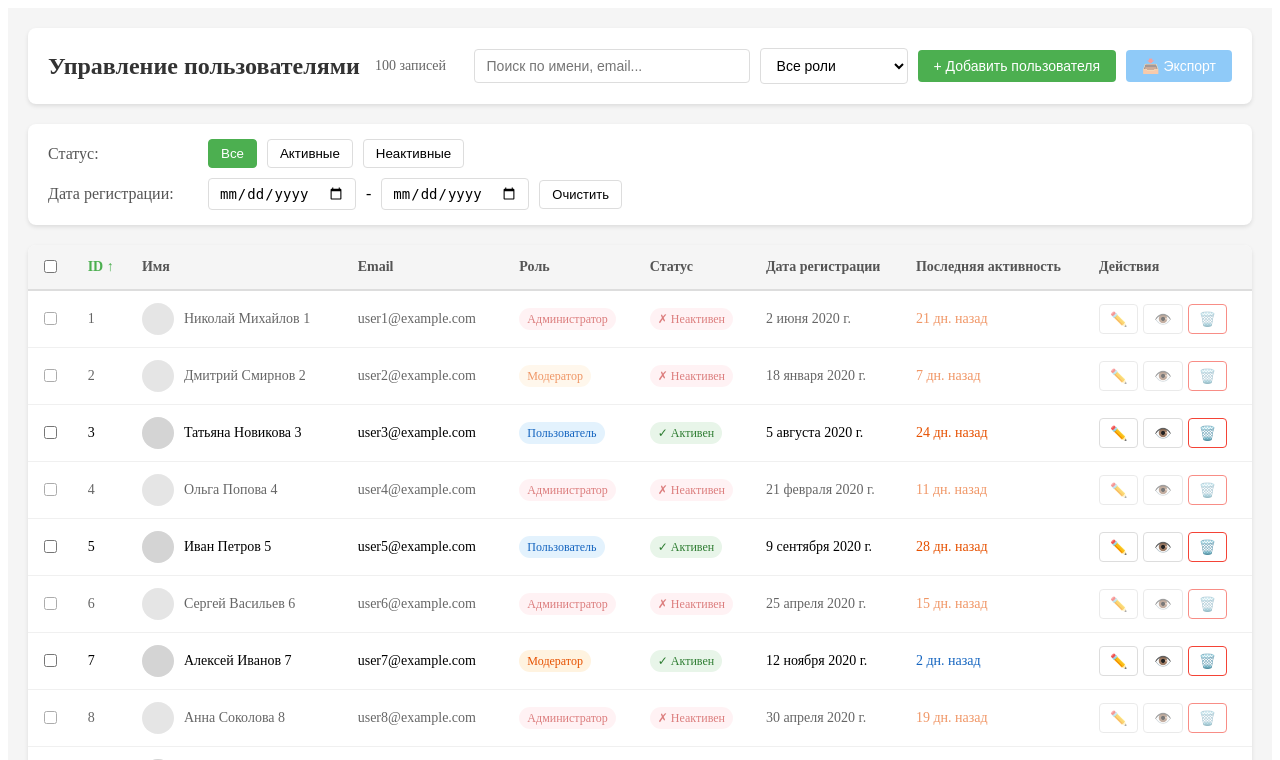
Scenario: UserTable › Редактирование пользователя › должен показать кнопки "Сохранить" и "Отмена" в режиме редактирования
Click the button with class "btn-icon" in the row of "user1@example.com" at (1119, 319), box x1=1099 y1=304 x2=1138 y2=334
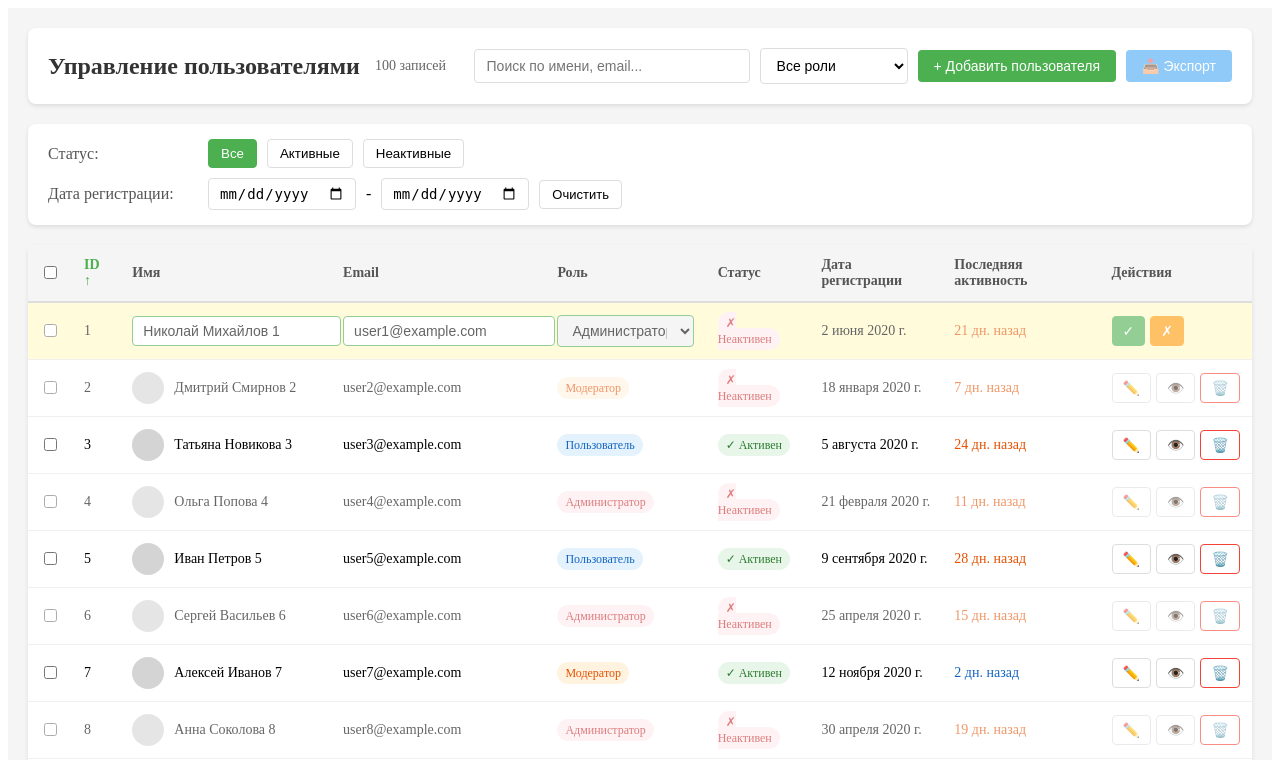
expect the button with class "btn-success" is shown: met, box x1=1112 y1=316 x2=1145 y2=346
expect the button with class "btn-cancel" is shown: met, box x1=1150 y1=316 x2=1184 y2=346
